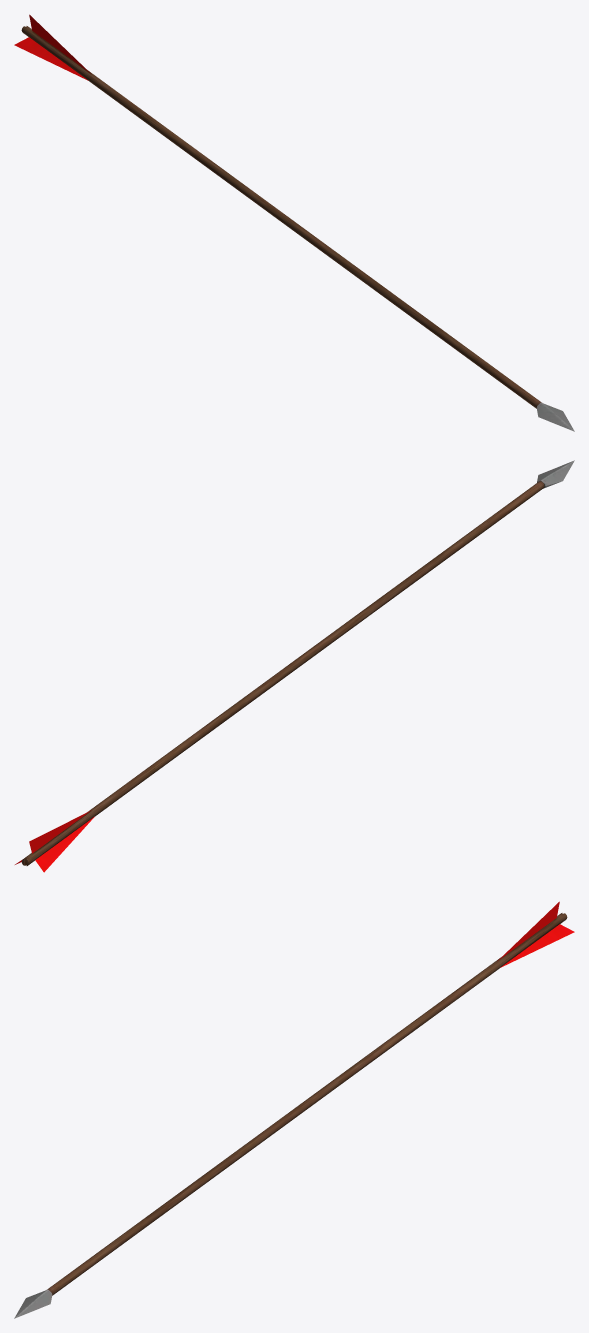
File: arrow.glb
3 renders of one model, top to bottom at view 1: azimuth 30°, elevation 25°; view 2: azimuth 150°, elevation 25°; view 3: azimuth 330°, elevation 25°, orthographic.
Parts seen in each view (by area): view 1: Arrow_32_inch_Arrows_0; view 2: Arrow_32_inch_Arrows_0; view 3: Arrow_32_inch_Arrows_0.
Boxes of the visible parts, left/top/right/bottom form: Arrow_32_inch_Arrows_0: left=14, top=14, right=574, bottom=431; Arrow_32_inch_Arrows_0: left=15, top=460, right=574, bottom=872; Arrow_32_inch_Arrows_0: left=14, top=901, right=574, bottom=1318.
Size of the model in its own units: 0.0274 by 0.0238 by 0.8664.
1 material, 1 textured.
